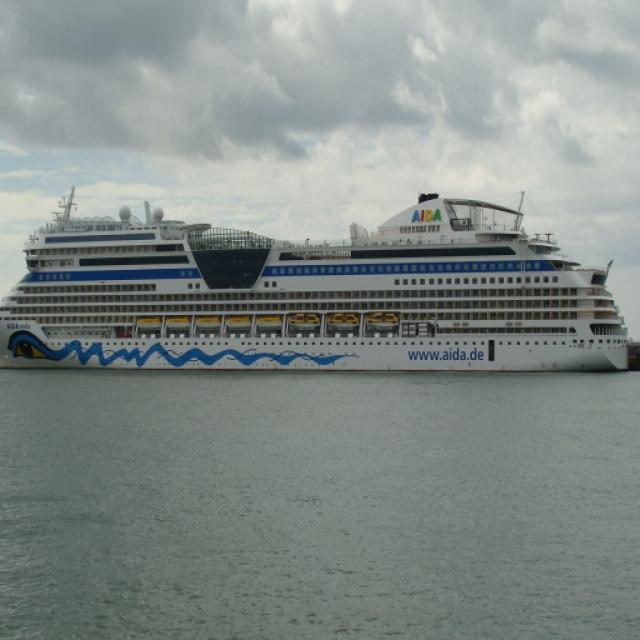cruises: (1, 174, 632, 385)
